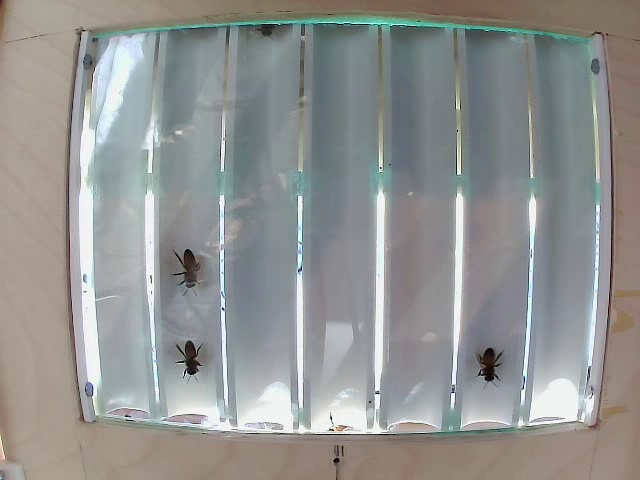bee: (174, 239, 209, 296), (175, 329, 200, 370), (477, 341, 497, 378)
